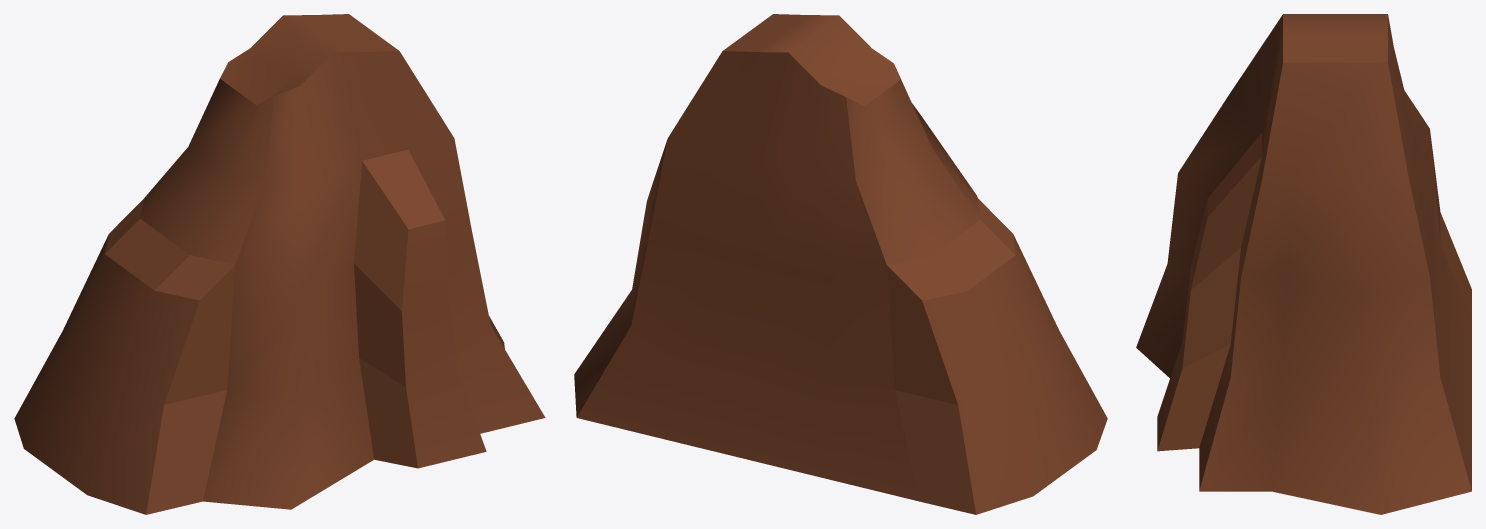
The model's file is Montaña2.FBX.
The picture shows the model from 3 angles, left to right: view 1: azimuth 30°, elevation 25°; view 2: azimuth 150°, elevation 25°; view 3: azimuth 270°, elevation 25°; orthographic projection. The views are drawn at different scales.
Visible parts, largest first — view 1: Box004; view 2: Box004; view 3: Box004.
Boxes of the visible parts, <box> form: Box004: <box>14,14,545,514</box>; Box004: <box>574,14,1107,514</box>; Box004: <box>1136,14,1471,514</box>.
Bounding box in the file's own units: 3453 × 2653 × 2065.
